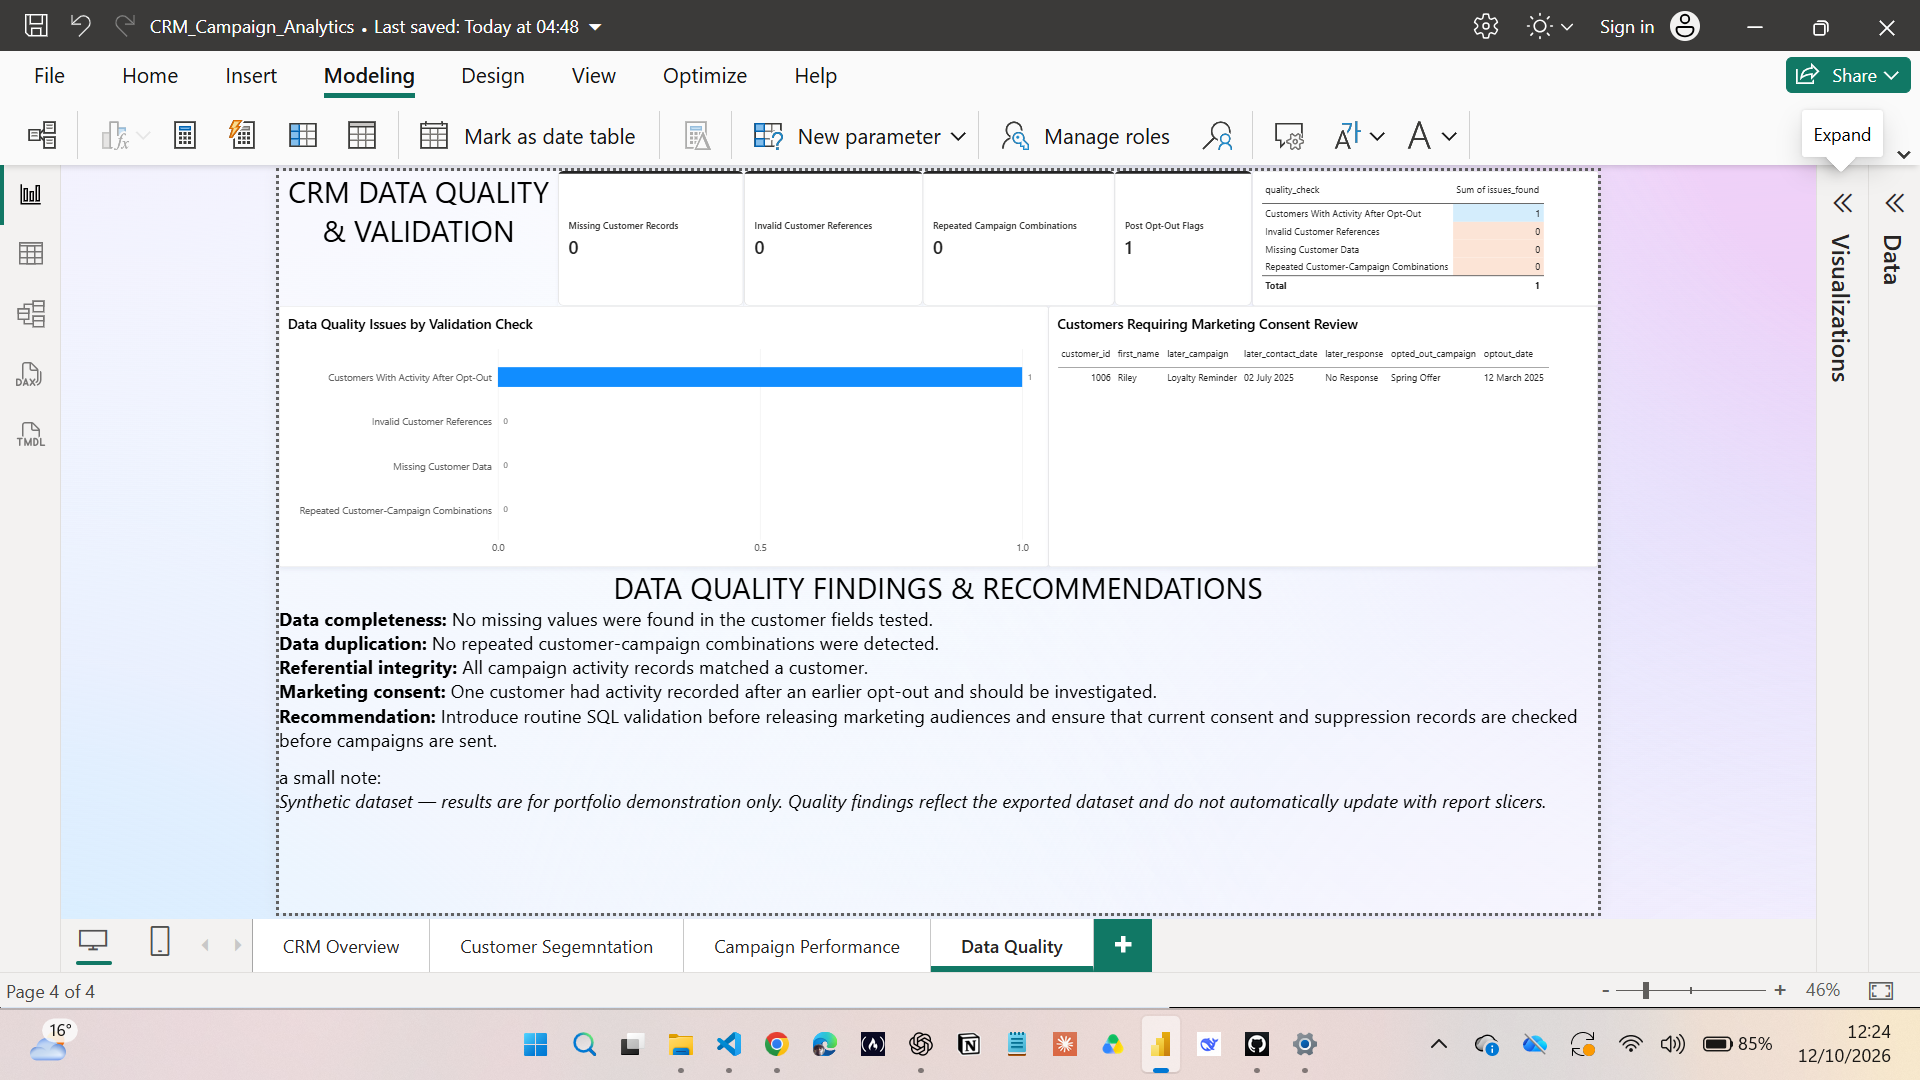

The page's visual inventory and layout, read from the dashboard file:
{"tool":"powerbi","page":{"name":"Data Quality","canvas":[1920,1080],"ordinal":3},"visuals":[{"type":"cardVisual","fields":{"Data":["data_quality_summary.Missing Customer Records"]},"box":[406.7,0,270,196.7],"z":0},{"type":"cardVisual","fields":{"Data":["data_quality_summary.Repeated Campaign Combinations"]},"box":[936.7,0,280,196.7],"z":1},{"type":"cardVisual","fields":{"Data":["data_quality_summary.Invalid Customer References"]},"box":[676.7,0,260,196.7],"z":2},{"type":"cardVisual","fields":{"Data":["data_quality_summary.Post Opt-Out Flags"]},"box":[1216.7,0,200,196.7],"z":3},{"type":"clusteredBarChart","title":"Data Quality Issues by Validation Check","fields":{"Category":["data_quality_summary.quality_check"],"Y":["Sum(data_quality_summary.issues_found)"]},"box":[0,196.5,1120.1,379.9],"z":4},{"type":"tableEx","fields":{"Values":["data_quality_summary.quality_check","Sum(data_quality_summary.issues_found)"]},"box":[1416.7,0,503.3,196.7],"z":5},{"type":"tableEx","title":"Customers Requiring Marketing Consent Review","fields":{"Values":["optout_investigation.customer_id","optout_investigation.first_name","optout_investigation.later_campaign","optout_investigation.later_contact_date","optout_investigation.later_response","optout_investigation.opted_out_campaign","optout_investigation.optout_date"]},"box":[1120.1,196.5,799.1,379.9],"z":6},{"type":"textbox","box":[0,576.4,1919.2,504.4],"z":7},{"type":"textbox","box":[0,0,406.7,196.7],"z":8}]}

Visuals, with their boxes on the page's 1920x1080 design canvas (x1, y1, x2, y2). These are canvas units, not pixel positions in the 1920x1080 screenshot, which may show the page scaled, cropped or inside an application window:
cardVisual - data_quality_summary.Missing Customer Records: crop(407, 0, 677, 197)
cardVisual - data_quality_summary.Repeated Campaign Combinations: crop(937, 0, 1217, 197)
cardVisual - data_quality_summary.Invalid Customer References: crop(677, 0, 937, 197)
cardVisual - data_quality_summary.Post Opt-Out Flags: crop(1217, 0, 1417, 197)
"Data Quality Issues by Validation Check" clusteredBarChart: crop(0, 196, 1120, 576)
tableEx - data_quality_summary.quality_check x Sum(data_quality_summary.issues_found): crop(1417, 0, 1920, 197)
"Customers Requiring Marketing Consent Review" tableEx: crop(1120, 196, 1919, 576)
textbox: crop(0, 576, 1919, 1081)
textbox: crop(0, 0, 407, 197)
